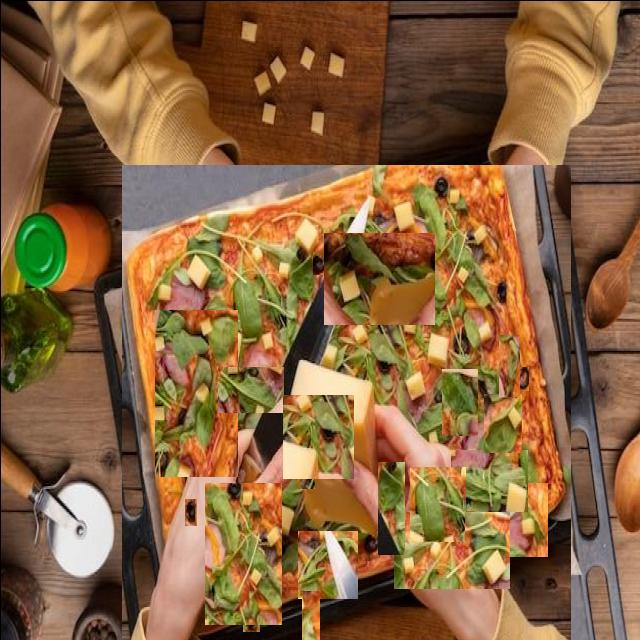basil: (152, 309, 236, 476), (202, 482, 280, 624), (323, 232, 434, 324), (393, 511, 509, 588), (445, 482, 547, 556), (282, 394, 353, 478), (448, 449, 526, 511), (409, 466, 464, 541), (297, 530, 357, 598), (217, 366, 283, 412), (377, 461, 404, 554), (441, 368, 477, 435), (483, 393, 521, 452), (496, 334, 518, 396), (301, 590, 319, 640)
olive: (431, 234, 447, 263), (242, 606, 259, 631), (183, 498, 196, 525), (298, 432, 314, 453), (312, 251, 326, 274), (222, 452, 238, 471), (517, 366, 528, 390), (301, 473, 314, 488), (506, 454, 518, 470)
pizza: (121, 164, 570, 640)
